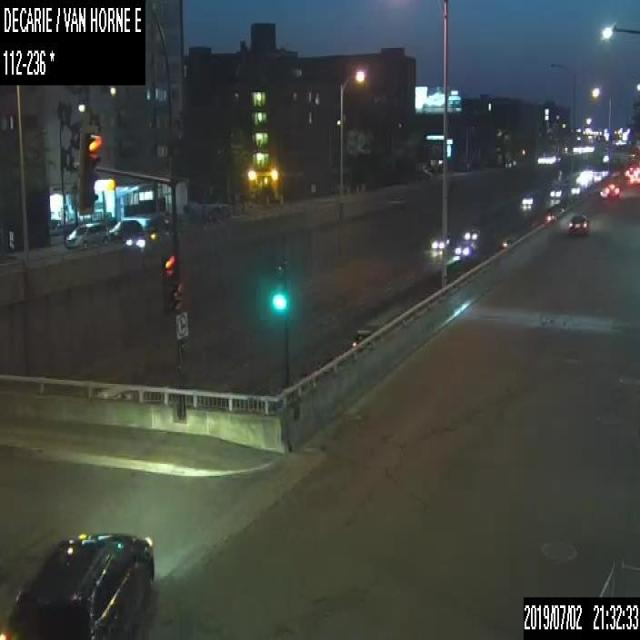vehicle: (1, 528, 154, 639), (63, 221, 108, 244), (124, 225, 158, 250), (109, 218, 141, 240), (567, 213, 588, 235), (352, 328, 371, 347), (430, 233, 451, 248), (499, 234, 516, 251), (604, 182, 618, 198), (454, 242, 472, 254), (521, 190, 535, 204), (464, 227, 478, 240), (549, 186, 564, 197)
